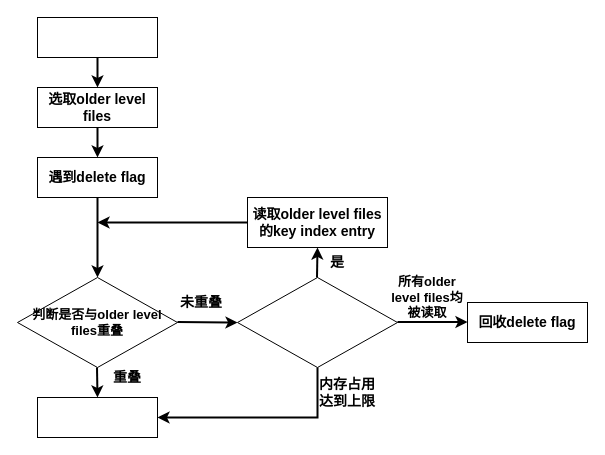
Image size: 605x455. Some labels were removed from this diagram. Each missing label, with the centre of its shape:
compaction: [97,37]
放弃回收: [97,417]
是否存在未读取的level files且内存占用未达到上限: [317,322]
